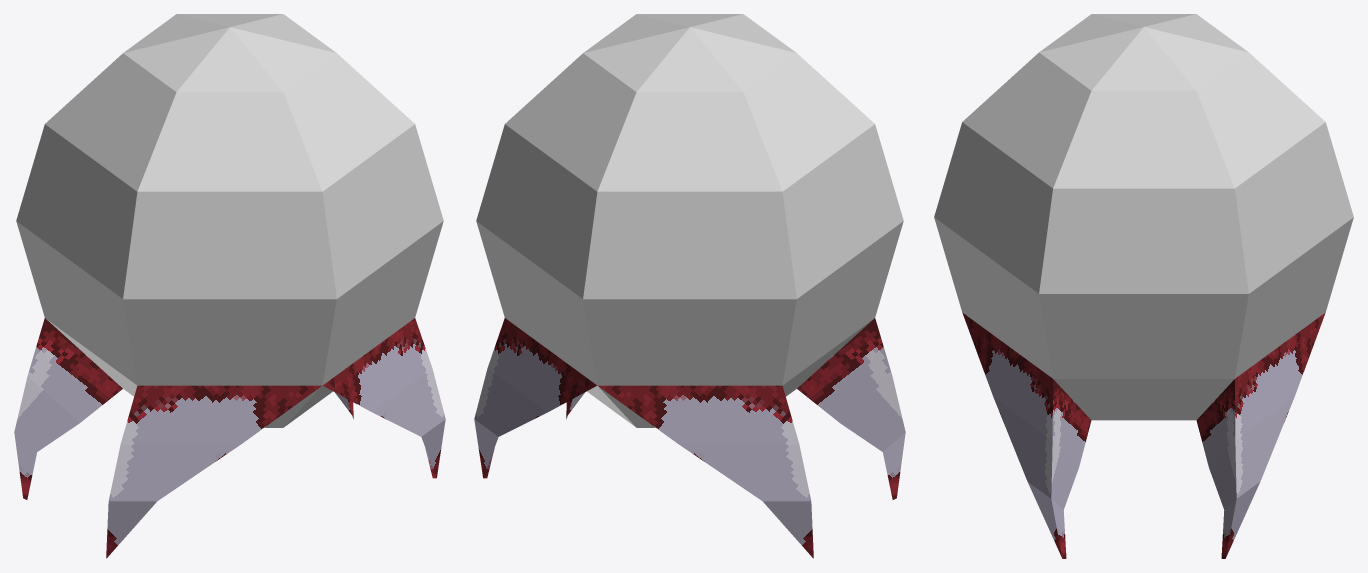
File: Enemy.fbx
3 views of the same model, side by side, from view 1: azimuth 30°, elevation 25°; view 2: azimuth 150°, elevation 25°; view 3: azimuth 270°, elevation 25° (orthographic).
Visible parts, largest first — view 1: Sphere, Sphere.001; view 2: Sphere, Sphere.001; view 3: Sphere, Sphere.001.
Part boxes in pixels (<box>): Sphere: <box>16,14,443,427</box>; Sphere.001: <box>14,318,445,558</box>; Sphere: <box>476,14,903,427</box>; Sphere.001: <box>474,318,905,558</box>; Sphere: <box>934,14,1353,420</box>; Sphere.001: <box>962,312,1325,558</box>.
Size of the model in its own units: 1.82 by 2.39 by 2.
2 materials, 1 textured.
